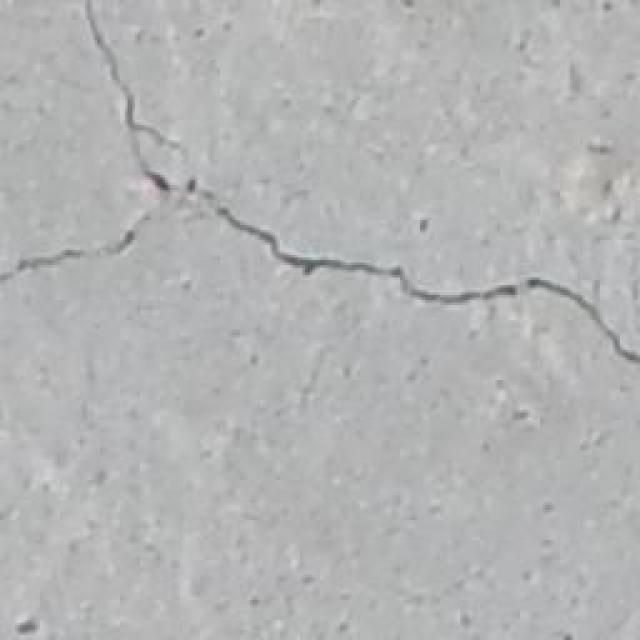concrete-crack: (4, 0, 640, 374)
